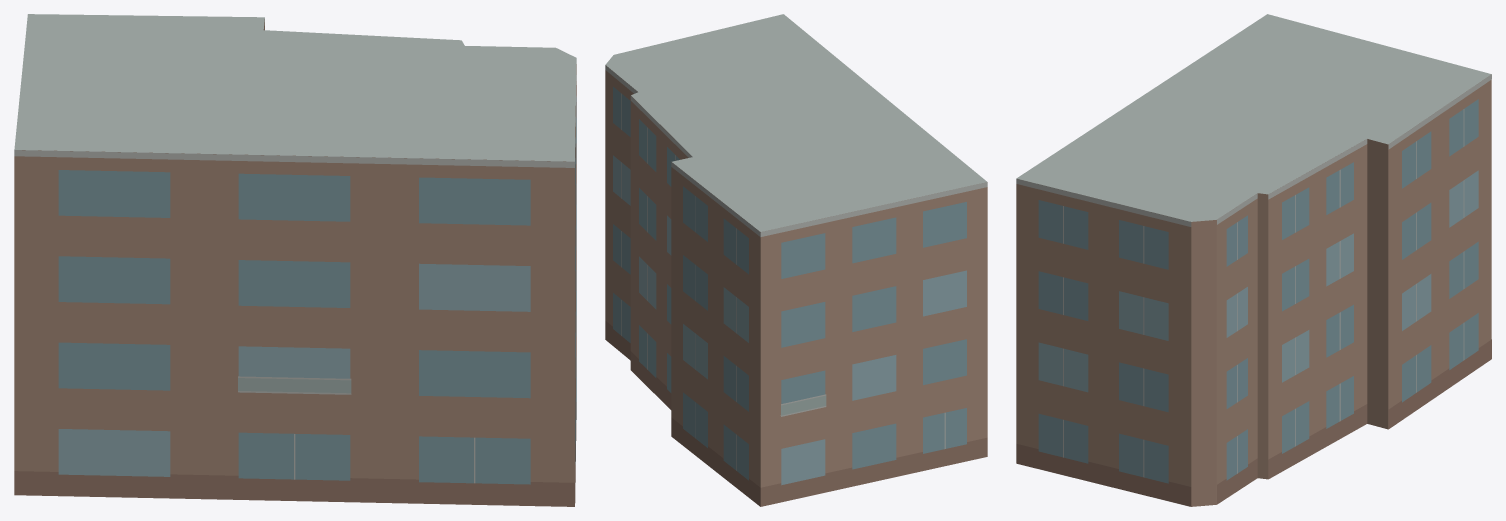
The model's file is survey-upis-32918689.glb.
The picture shows the model from 3 angles, left to right: view 1: azimuth 30°, elevation 25°; view 2: azimuth 150°, elevation 25°; view 3: azimuth 270°, elevation 25°; orthographic projection. The views are drawn at different scales.
Parts seen in each view (by area): view 1: survey-upis-32918689.tmp; view 2: survey-upis-32918689.tmp; view 3: survey-upis-32918689.tmp.
Part boxes in pixels (x1,y1,x2,y2): survey-upis-32918689.tmp: (14, 14, 576, 506); survey-upis-32918689.tmp: (605, 14, 987, 506); survey-upis-32918689.tmp: (1016, 14, 1491, 506).
Size of the model in its own units: 20.66 by 13.2 by 19.97.
